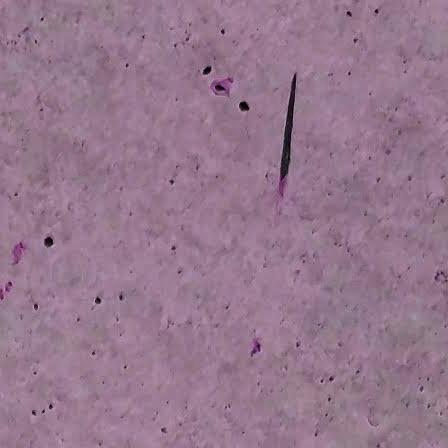hole: (237, 99, 251, 113), (203, 65, 212, 76)
spalling: (208, 70, 236, 101)
